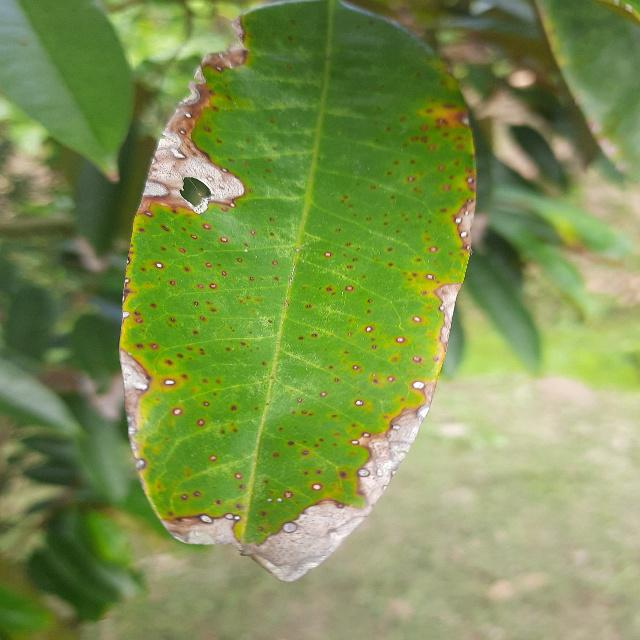Leaf Spot: (115, 0, 493, 588)
